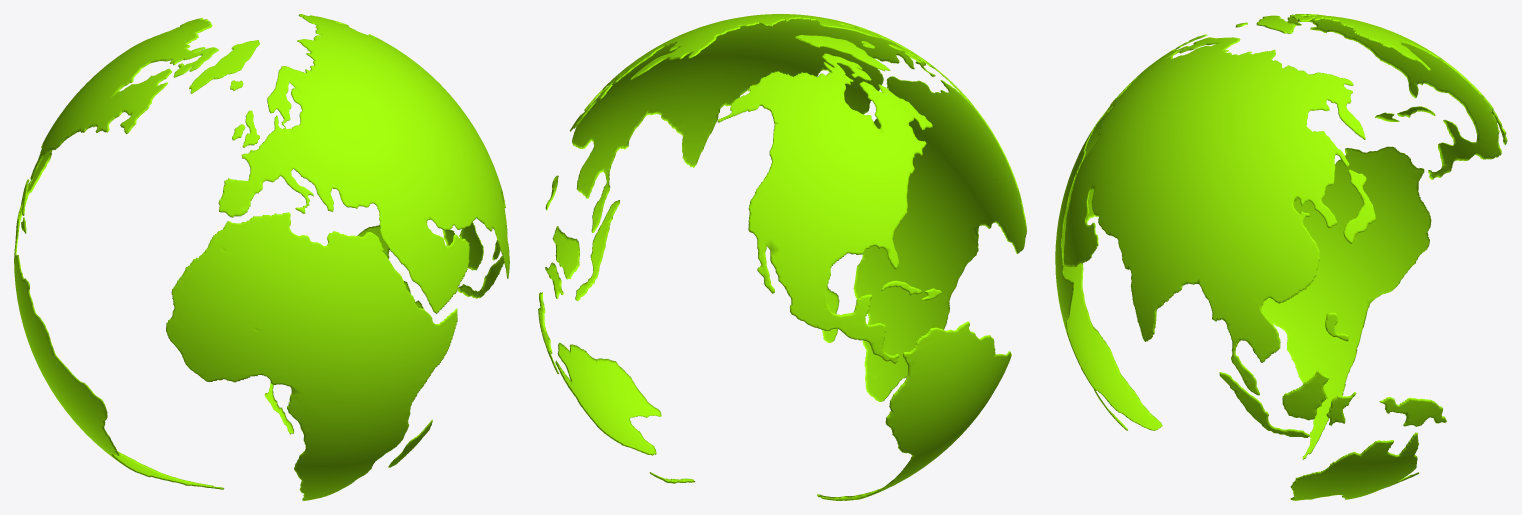
The model's file is All area.fbx.
3 renders of one model, left to right at view 1: azimuth 30°, elevation 25°; view 2: azimuth 150°, elevation 25°; view 3: azimuth 270°, elevation 25°, orthographic.
Visible parts, largest first — view 1: Africa, Eurasia, North America, South America, Random; view 2: North America, Africa, Eurasia, South America, Australia, Random; view 3: Eurasia, South America, North America, Africa, Random, Australia.
Part boxes in pixels (x1,y1,x2,y2): Africa: [166, 212, 457, 500]; Eurasia: [218, 14, 509, 313]; North America: [14, 18, 218, 257]; South America: [14, 254, 224, 489]; Random: [21, 40, 504, 467]; North America: [717, 53, 932, 363]; Africa: [853, 76, 1026, 401]; Eurasia: [572, 14, 973, 232]; South America: [817, 321, 1011, 500]; Australia: [555, 342, 661, 455]; Random: [538, 35, 942, 483]; Eurasia: [1063, 37, 1365, 395]; South America: [1261, 146, 1431, 459]; North America: [1287, 14, 1507, 179]; Africa: [1055, 97, 1162, 430]; Random: [1094, 15, 1446, 488]; Australia: [1290, 432, 1418, 500].
Bounding box in the file's own units: 11820 × 11758 × 10937.
